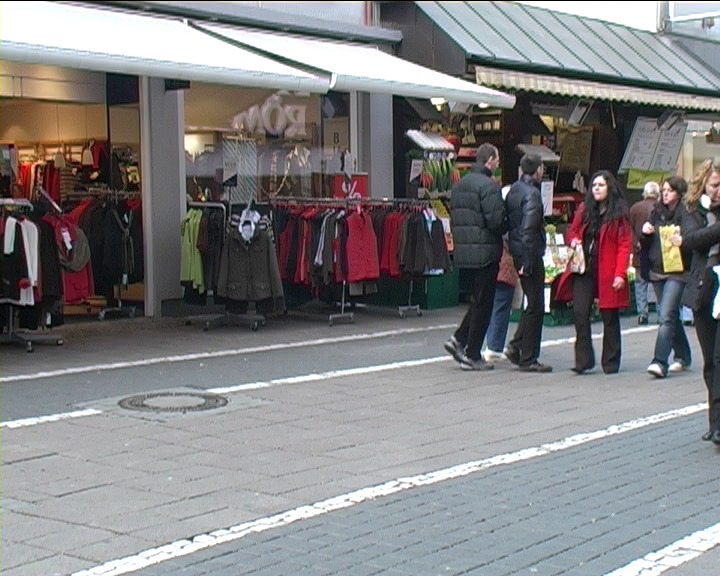undeflect: (578, 172, 629, 241)
